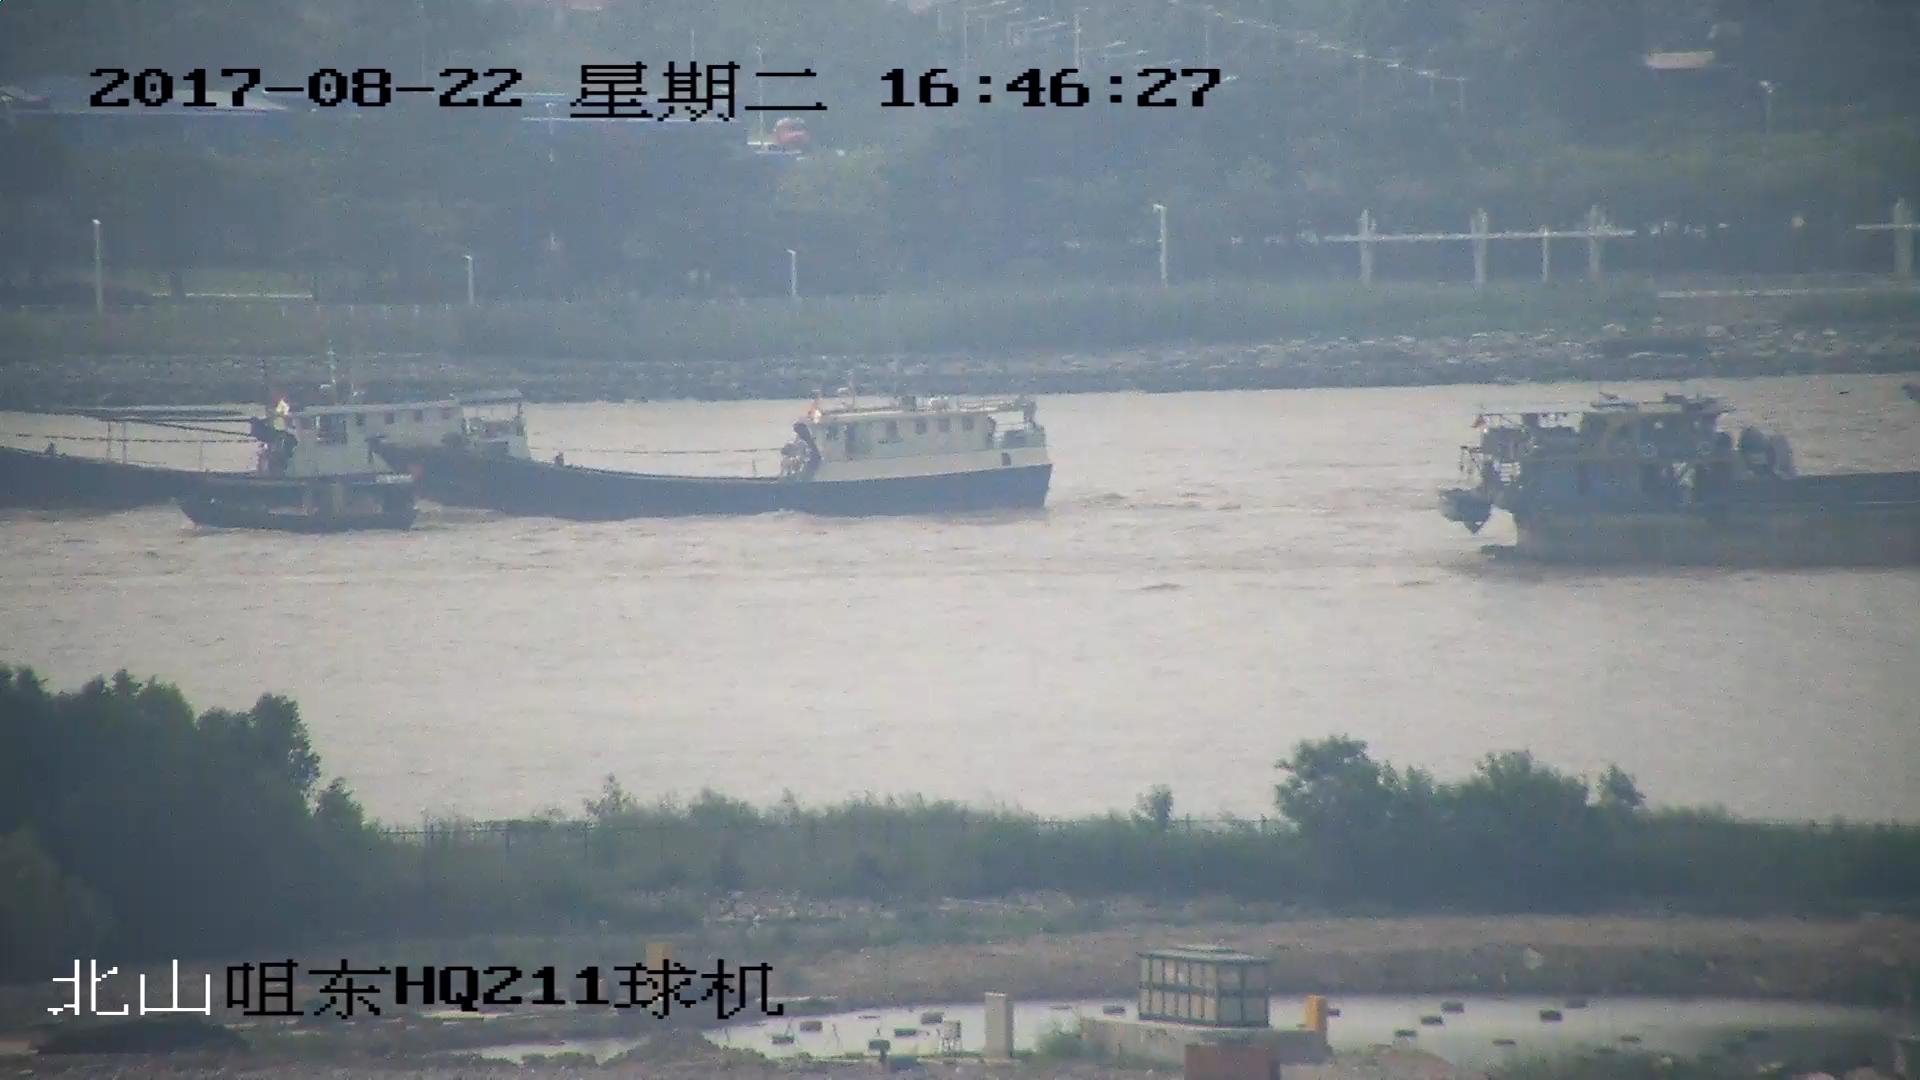bulk cargo carrier: (1455, 403, 1920, 566)
fishing boat: (374, 390, 1053, 522), (1, 389, 531, 505), (178, 471, 425, 527)
